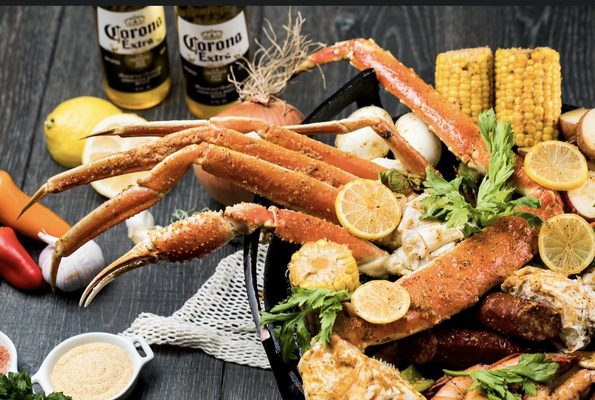sushi: (33, 331, 155, 399)
